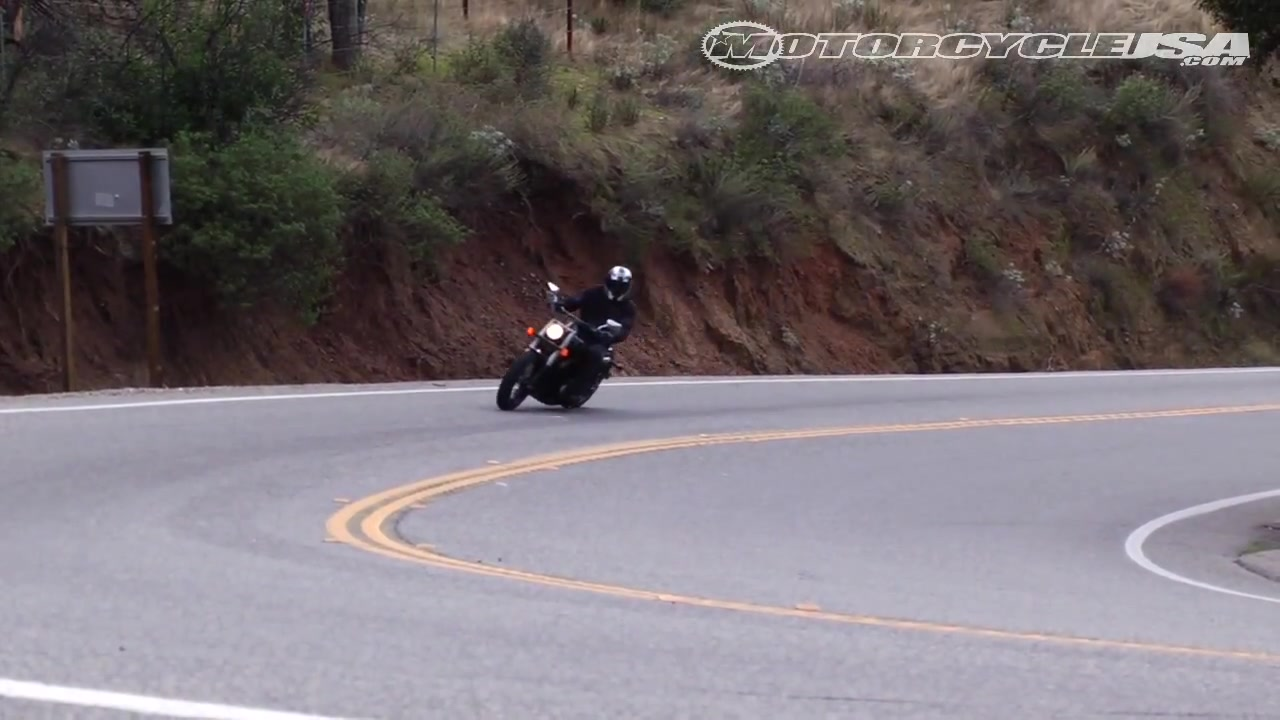motorbike: (495, 283, 628, 414)
